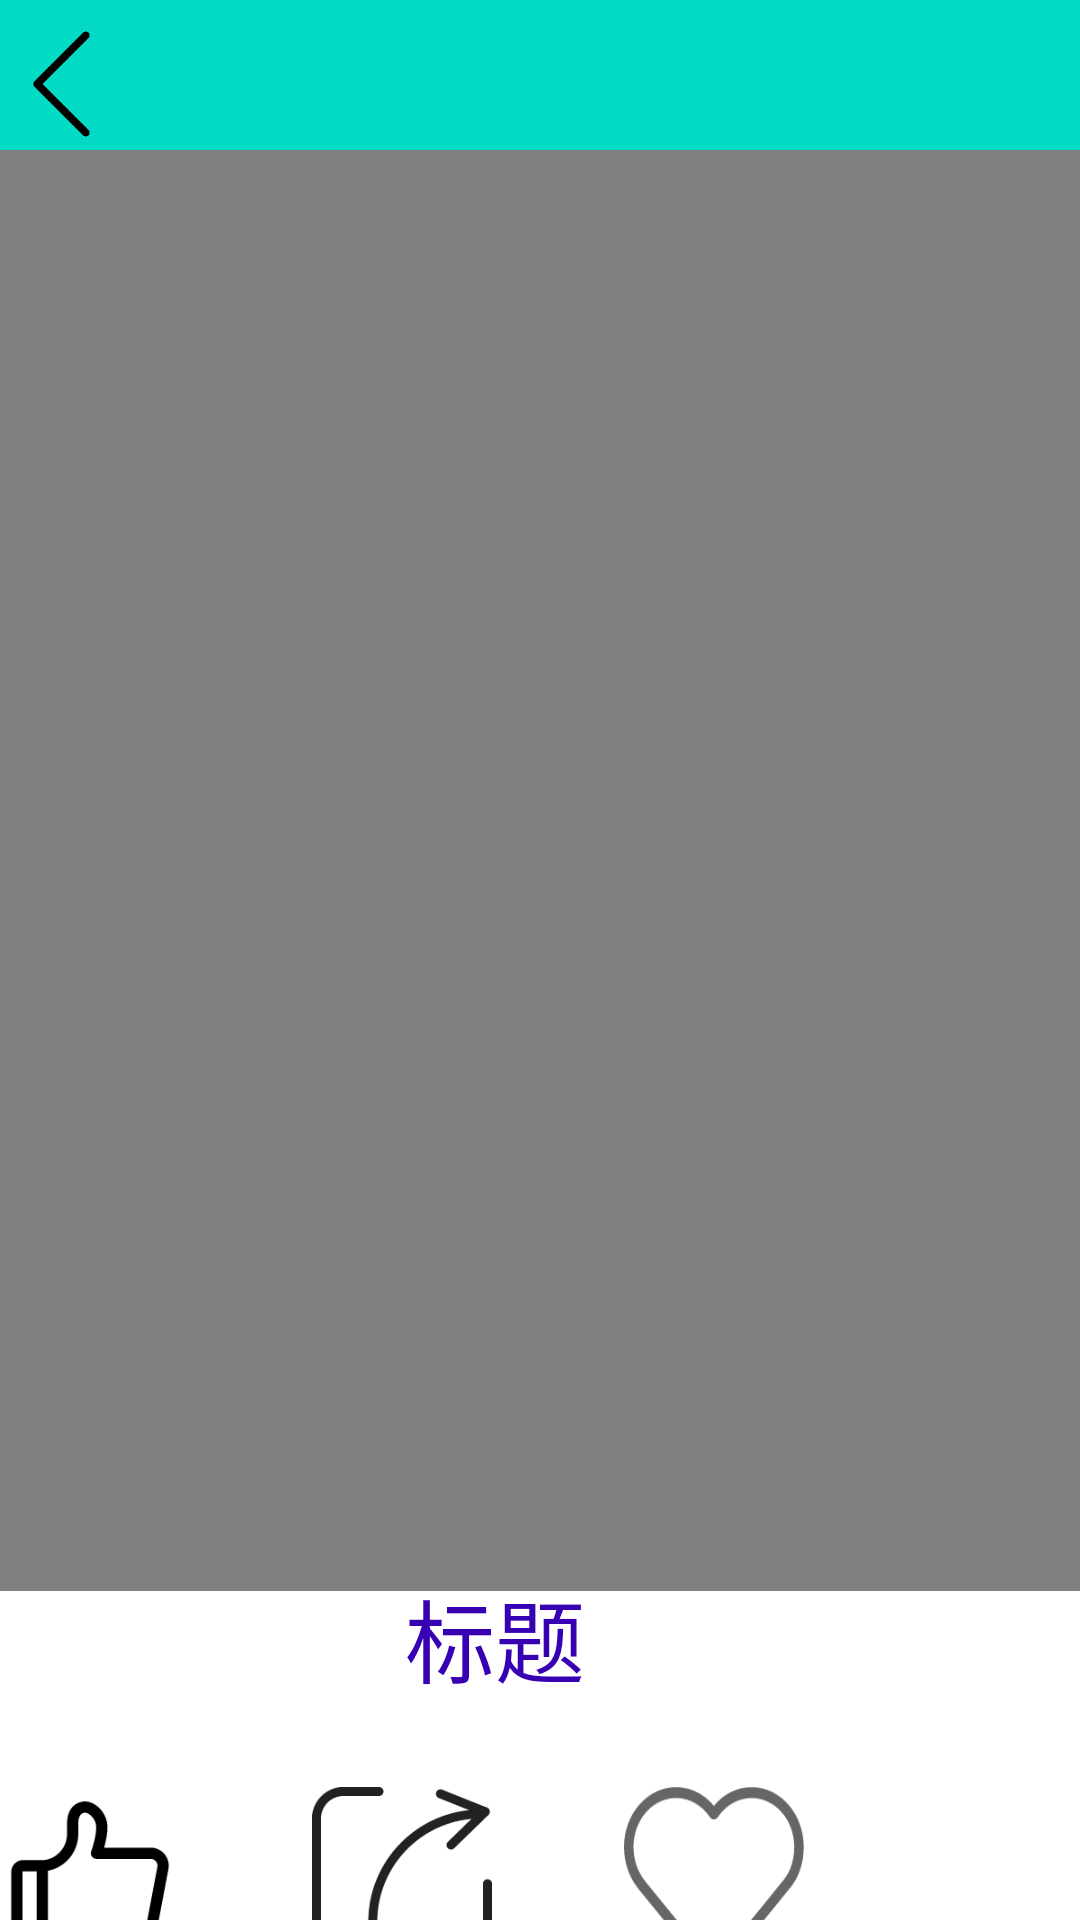

Screen size 1080 × 1920. Icon name, then its center in pixels as (x=x, y=y):
jiantou: (x=61, y=84)
